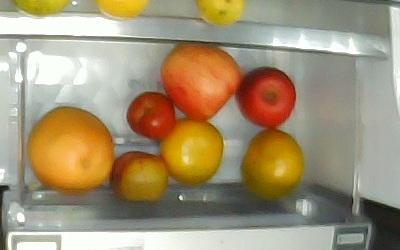apple: (159, 43, 242, 120), (234, 65, 296, 128)
grapefruit: (25, 104, 114, 194)
persimmon: (239, 127, 304, 199), (158, 116, 224, 186)
prune: (108, 149, 168, 202), (125, 90, 176, 140)
